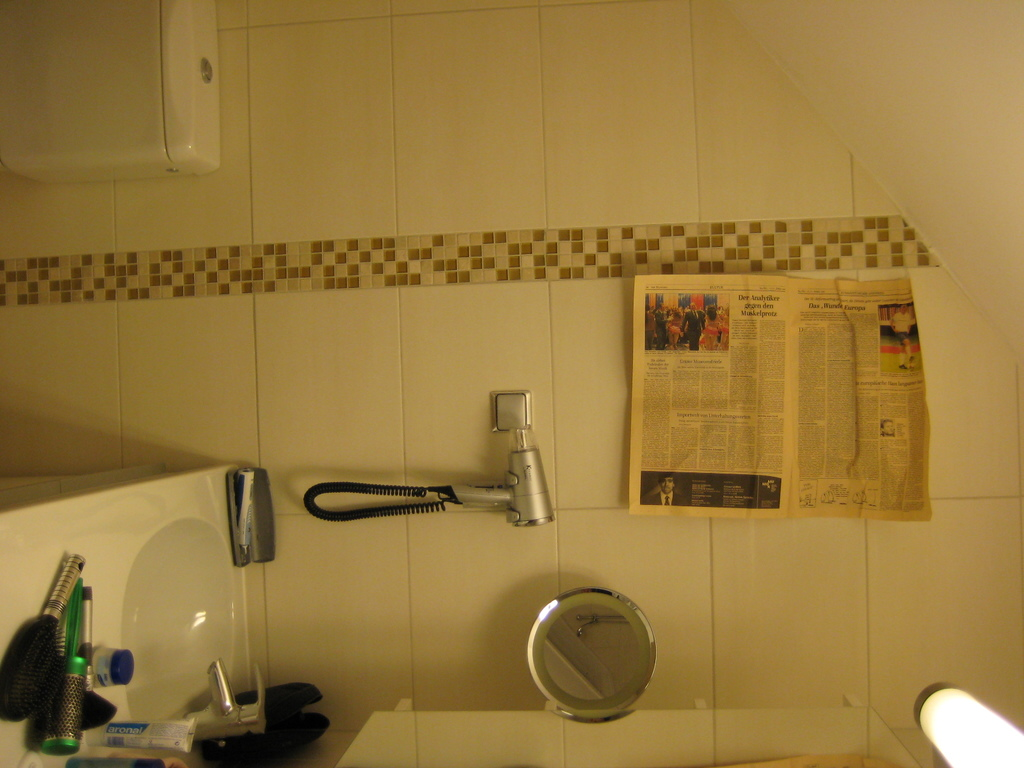tap: (287, 446, 568, 565)
